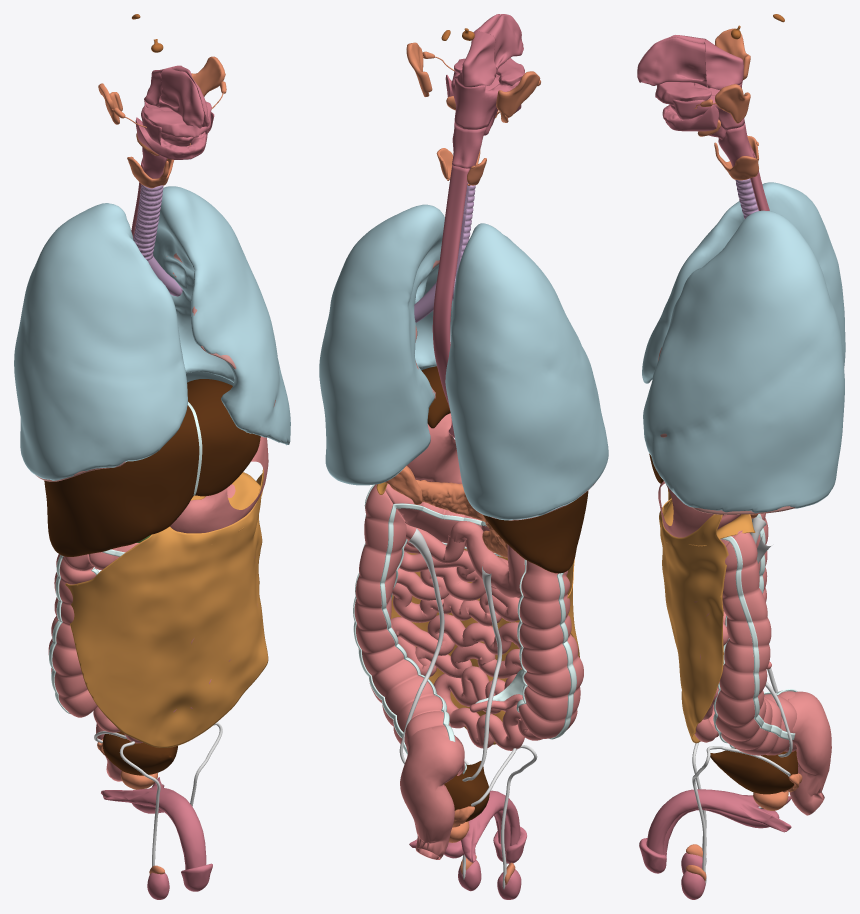
Rendered from visceral.glb.
3 views of the same model, side by side, from view 1: azimuth 30°, elevation 25°; view 2: azimuth 150°, elevation 25°; view 3: azimuth 270°, elevation 25° (orthographic). The views are drawn at different scales.
Visible parts, largest first — view 1: Pleura, Greater omentum, Liver, Ascending colon, Corpus cavernosum of penis, Stomach, Gingiva, Mucosa of nasal cavity, Urinary bladder, Trachea, Mesocolon, Parotid gland.l (+5 smaller); view 2: Pleura, Jejunum, Descending colon, Ascending colon, Sigmoid colon, Liver, Oesophagus, Duodenum, Free taenia, Stomach, Pancreas, Oropharynx (+18 smaller); view 3: Pleura, Greater omentum, Descending colon, Sigmoid colon, Corpus cavernosum of penis, Mucosa of nasal cavity, Urinary bladder, Gingiva, Mesocolic taenia, Nasopharynx, Stomach, Parotid gland.l (+13 smaller).
Boxes of the visible parts, x1,y1,x2,y2 form: Pleura: [14, 186, 290, 480]; Greater omentum: [65, 469, 268, 747]; Liver: [44, 379, 260, 556]; Ascending colon: [48, 554, 97, 717]; Corpus cavernosum of penis: [101, 777, 206, 869]; Stomach: [170, 436, 268, 533]; Gingiva: [135, 101, 211, 159]; Mucosa of nasal cavity: [159, 65, 210, 128]; Urinary bladder: [102, 731, 177, 775]; Trachea: [133, 184, 163, 260]; Mesocolon: [227, 472, 262, 531]; Parotid gland.l: [191, 56, 225, 96]; Pleura: [319, 204, 608, 520]; Jejunum: [391, 523, 542, 750]; Descending colon: [354, 484, 464, 775]; Ascending colon: [518, 560, 583, 738]; Sigmoid colon: [400, 727, 464, 859]; Liver: [421, 366, 588, 573]; Oesophagus: [432, 165, 469, 438]; Duodenum: [449, 521, 526, 597]; Free taenia: [380, 503, 527, 741]; Stomach: [407, 413, 462, 483]; Pancreas: [390, 480, 507, 558]; Oropharynx: [451, 71, 520, 129]; Pleura: [642, 182, 845, 513]; Greater omentum: [659, 489, 728, 743]; Descending colon: [715, 530, 796, 755]; Sigmoid colon: [788, 691, 831, 815]; Corpus cavernosum of penis: [646, 789, 791, 854]; Mucosa of nasal cavity: [637, 35, 706, 86]; Urinary bladder: [710, 748, 798, 794]; Gingiva: [655, 82, 718, 131]; Mesocolic taenia: [720, 536, 795, 739]; Nasopharynx: [705, 39, 743, 89]; Stomach: [658, 481, 740, 537]; Parotid gland.l: [715, 84, 750, 123].
Bounding box in the file's own units: 0.2634 × 0.8931 × 0.1926.
